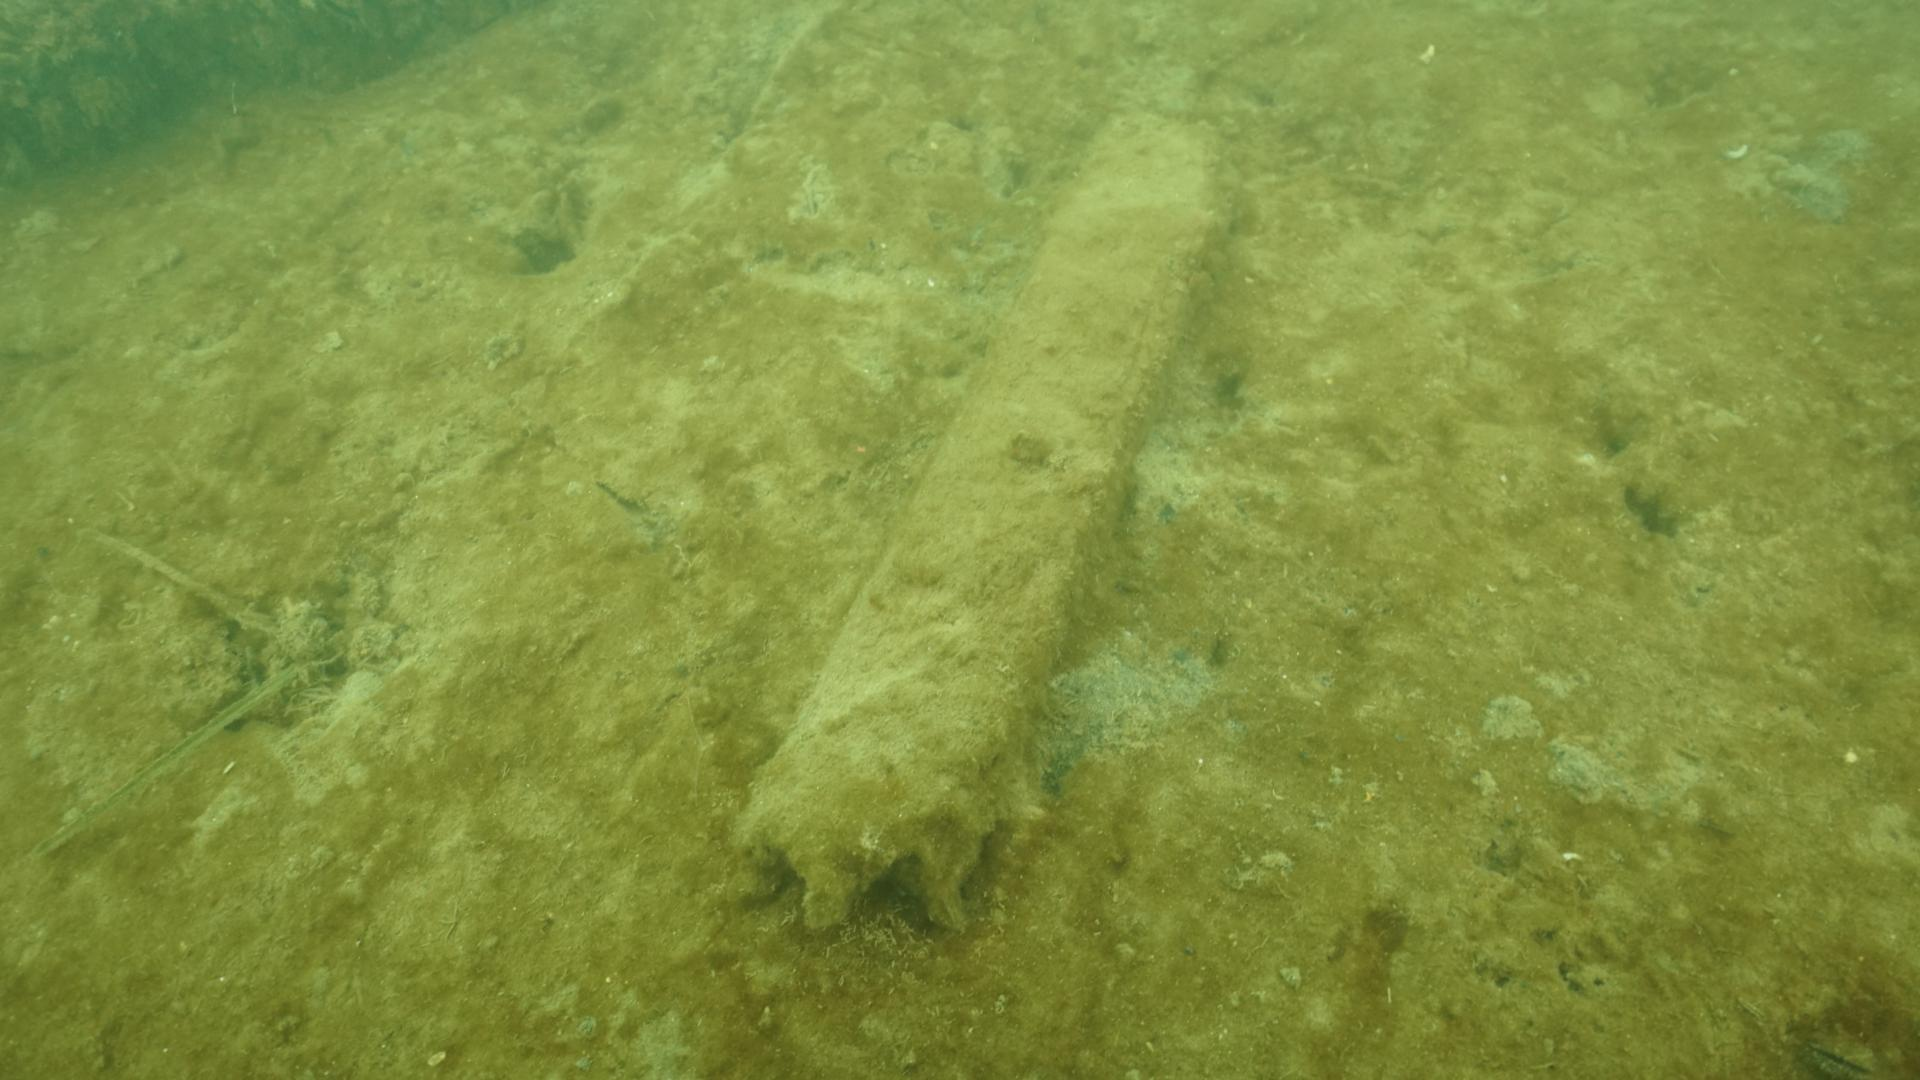wood: (721, 40, 1244, 945)
